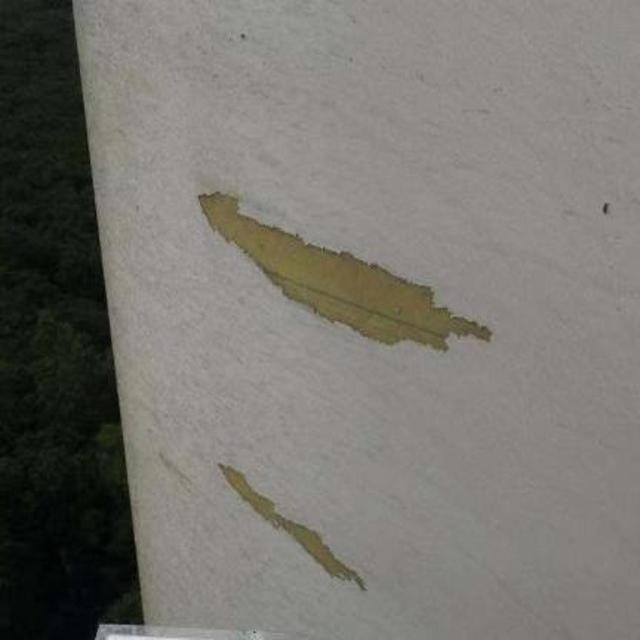surface_peeling: (197, 185, 493, 352)
